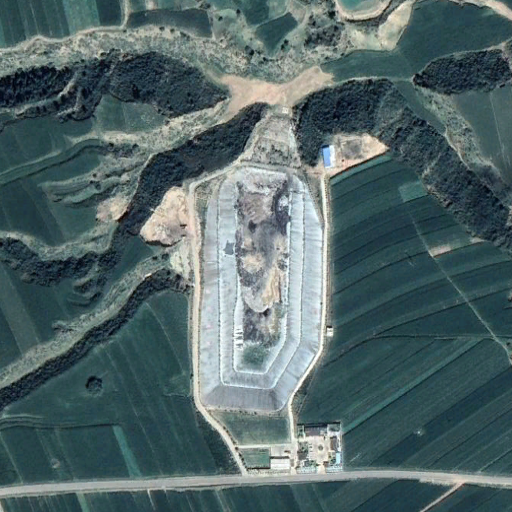lf: (194, 167, 330, 413)
